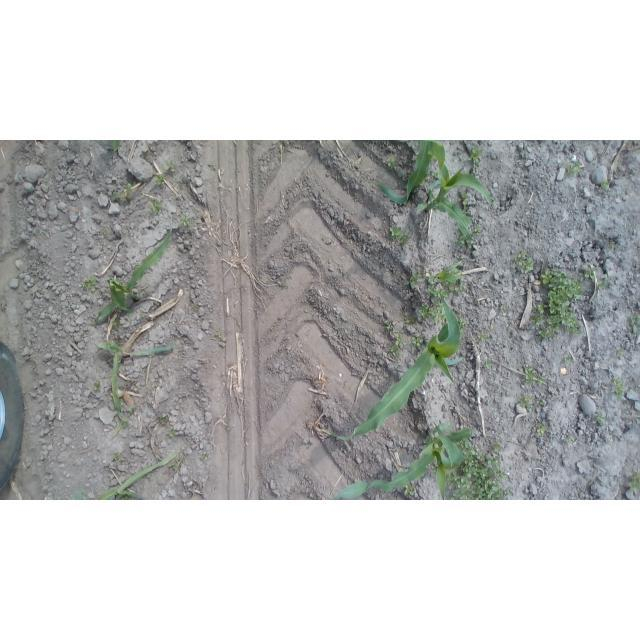Maize: (324, 294, 460, 443), (333, 422, 474, 500), (416, 140, 500, 250), (92, 226, 177, 326), (102, 337, 172, 431), (70, 449, 182, 500), (373, 140, 435, 208), (423, 261, 465, 283)
Weeds: (531, 265, 585, 344), (445, 438, 510, 500), (418, 303, 450, 326), (388, 225, 415, 248), (522, 363, 547, 385), (520, 393, 548, 412), (425, 285, 452, 304), (515, 251, 533, 276), (402, 270, 422, 290), (110, 185, 132, 203), (612, 376, 627, 402), (387, 334, 403, 357), (81, 274, 100, 292), (625, 472, 640, 494), (565, 159, 583, 177), (147, 199, 164, 217), (447, 283, 472, 295), (455, 190, 473, 206), (592, 412, 608, 429), (169, 457, 186, 473), (470, 148, 483, 168), (536, 424, 551, 439), (580, 266, 597, 279), (178, 216, 195, 229), (630, 313, 640, 334), (457, 316, 467, 336), (409, 337, 427, 348), (89, 379, 103, 393), (598, 180, 614, 192), (122, 404, 138, 416), (404, 313, 417, 327), (159, 414, 172, 427), (481, 359, 495, 371), (386, 156, 398, 169), (165, 159, 176, 173), (595, 281, 610, 291), (155, 172, 165, 187), (608, 240, 619, 253), (99, 227, 110, 240), (475, 331, 489, 341), (565, 434, 576, 446), (166, 429, 178, 440), (403, 483, 413, 496), (472, 220, 481, 234), (615, 347, 626, 358), (562, 355, 573, 366), (384, 321, 394, 331), (498, 305, 509, 314), (200, 452, 211, 461), (188, 301, 198, 310), (113, 453, 121, 463), (215, 331, 223, 339)
